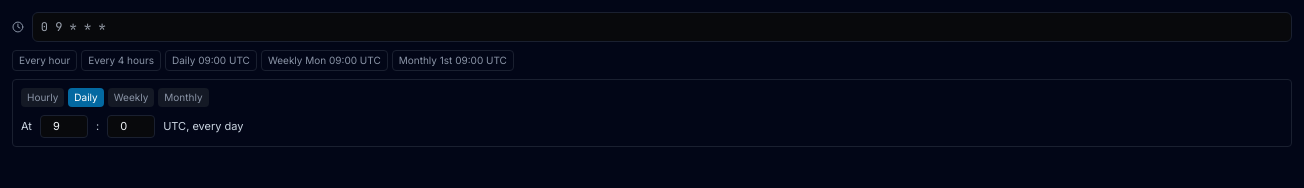
CronBuilder › clicking a preset rewrites the raw input
The width and height of the screenshot is (1304, 188).
Click the button "Every hour" at [45, 60], box 12,50 -> 77,71
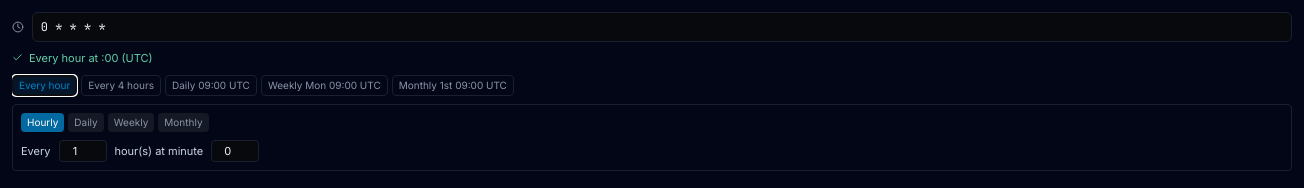
Now the field with placeholder "0 9 * * *" holds "0 * * * *", box 32,12 -> 1292,42
